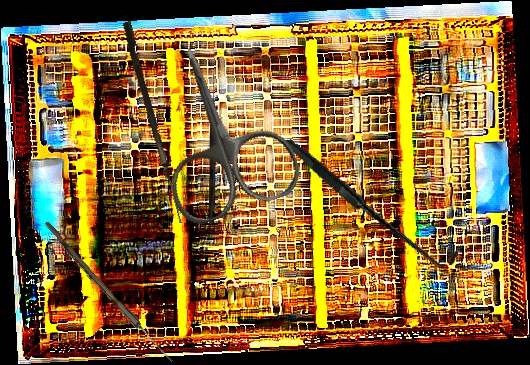Hook Surgical: (283, 112, 461, 292), (118, 20, 192, 224), (209, 74, 216, 224)
Iris Scissors: (129, 27, 307, 231)
Surgical Spoon: (41, 221, 176, 364)
